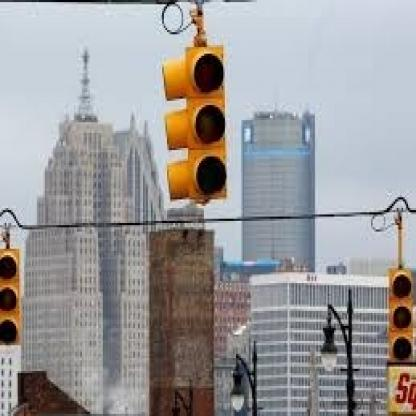Traffic Signal: (186, 44, 230, 201)
